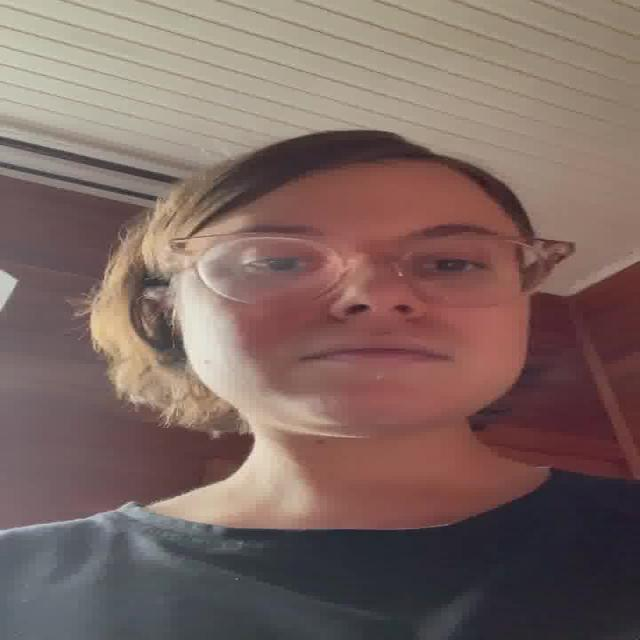eye: (239, 255, 319, 273), (419, 258, 490, 274)
nose: (334, 308, 418, 337)
